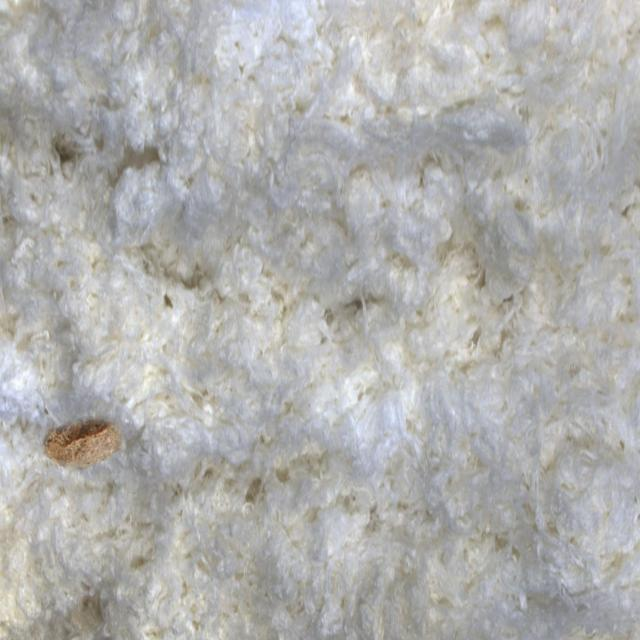dust: (8, 368, 144, 520)
